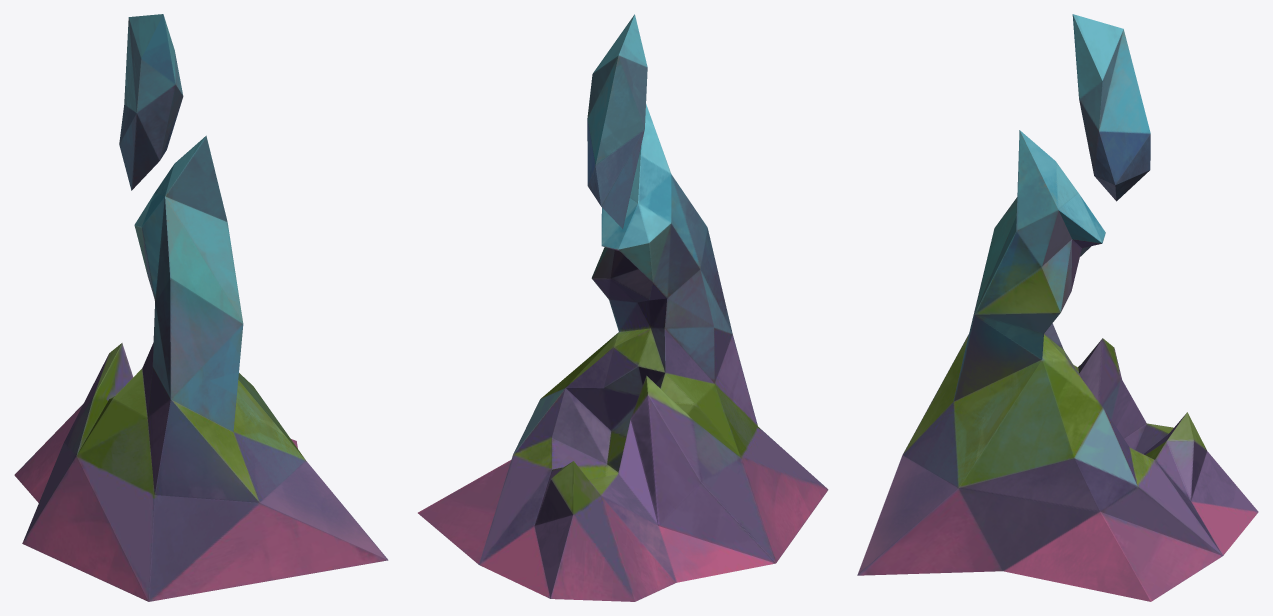
The model's file is environ_rock_var1.fbx.
The picture shows the model from 3 angles, left to right: view 1: azimuth 30°, elevation 25°; view 2: azimuth 150°, elevation 25°; view 3: azimuth 270°, elevation 25°; orthographic projection. The views are drawn at different scales.
Parts seen in each view (by area): view 1: environ_mtn_var1, floating_rock1; view 2: environ_mtn_var1, floating_rock1; view 3: environ_mtn_var1, floating_rock1.
Part boxes in pixels (box(x1,y1,x2,y2)): environ_mtn_var1: box(14, 135, 388, 601); floating_rock1: box(119, 14, 183, 190); environ_mtn_var1: box(418, 104, 828, 601); floating_rock1: box(587, 14, 647, 228); environ_mtn_var1: box(857, 130, 1258, 601); floating_rock1: box(1072, 14, 1150, 201).
Size of the model in its own units: 0.0625 by 0.0963 by 0.0691.
